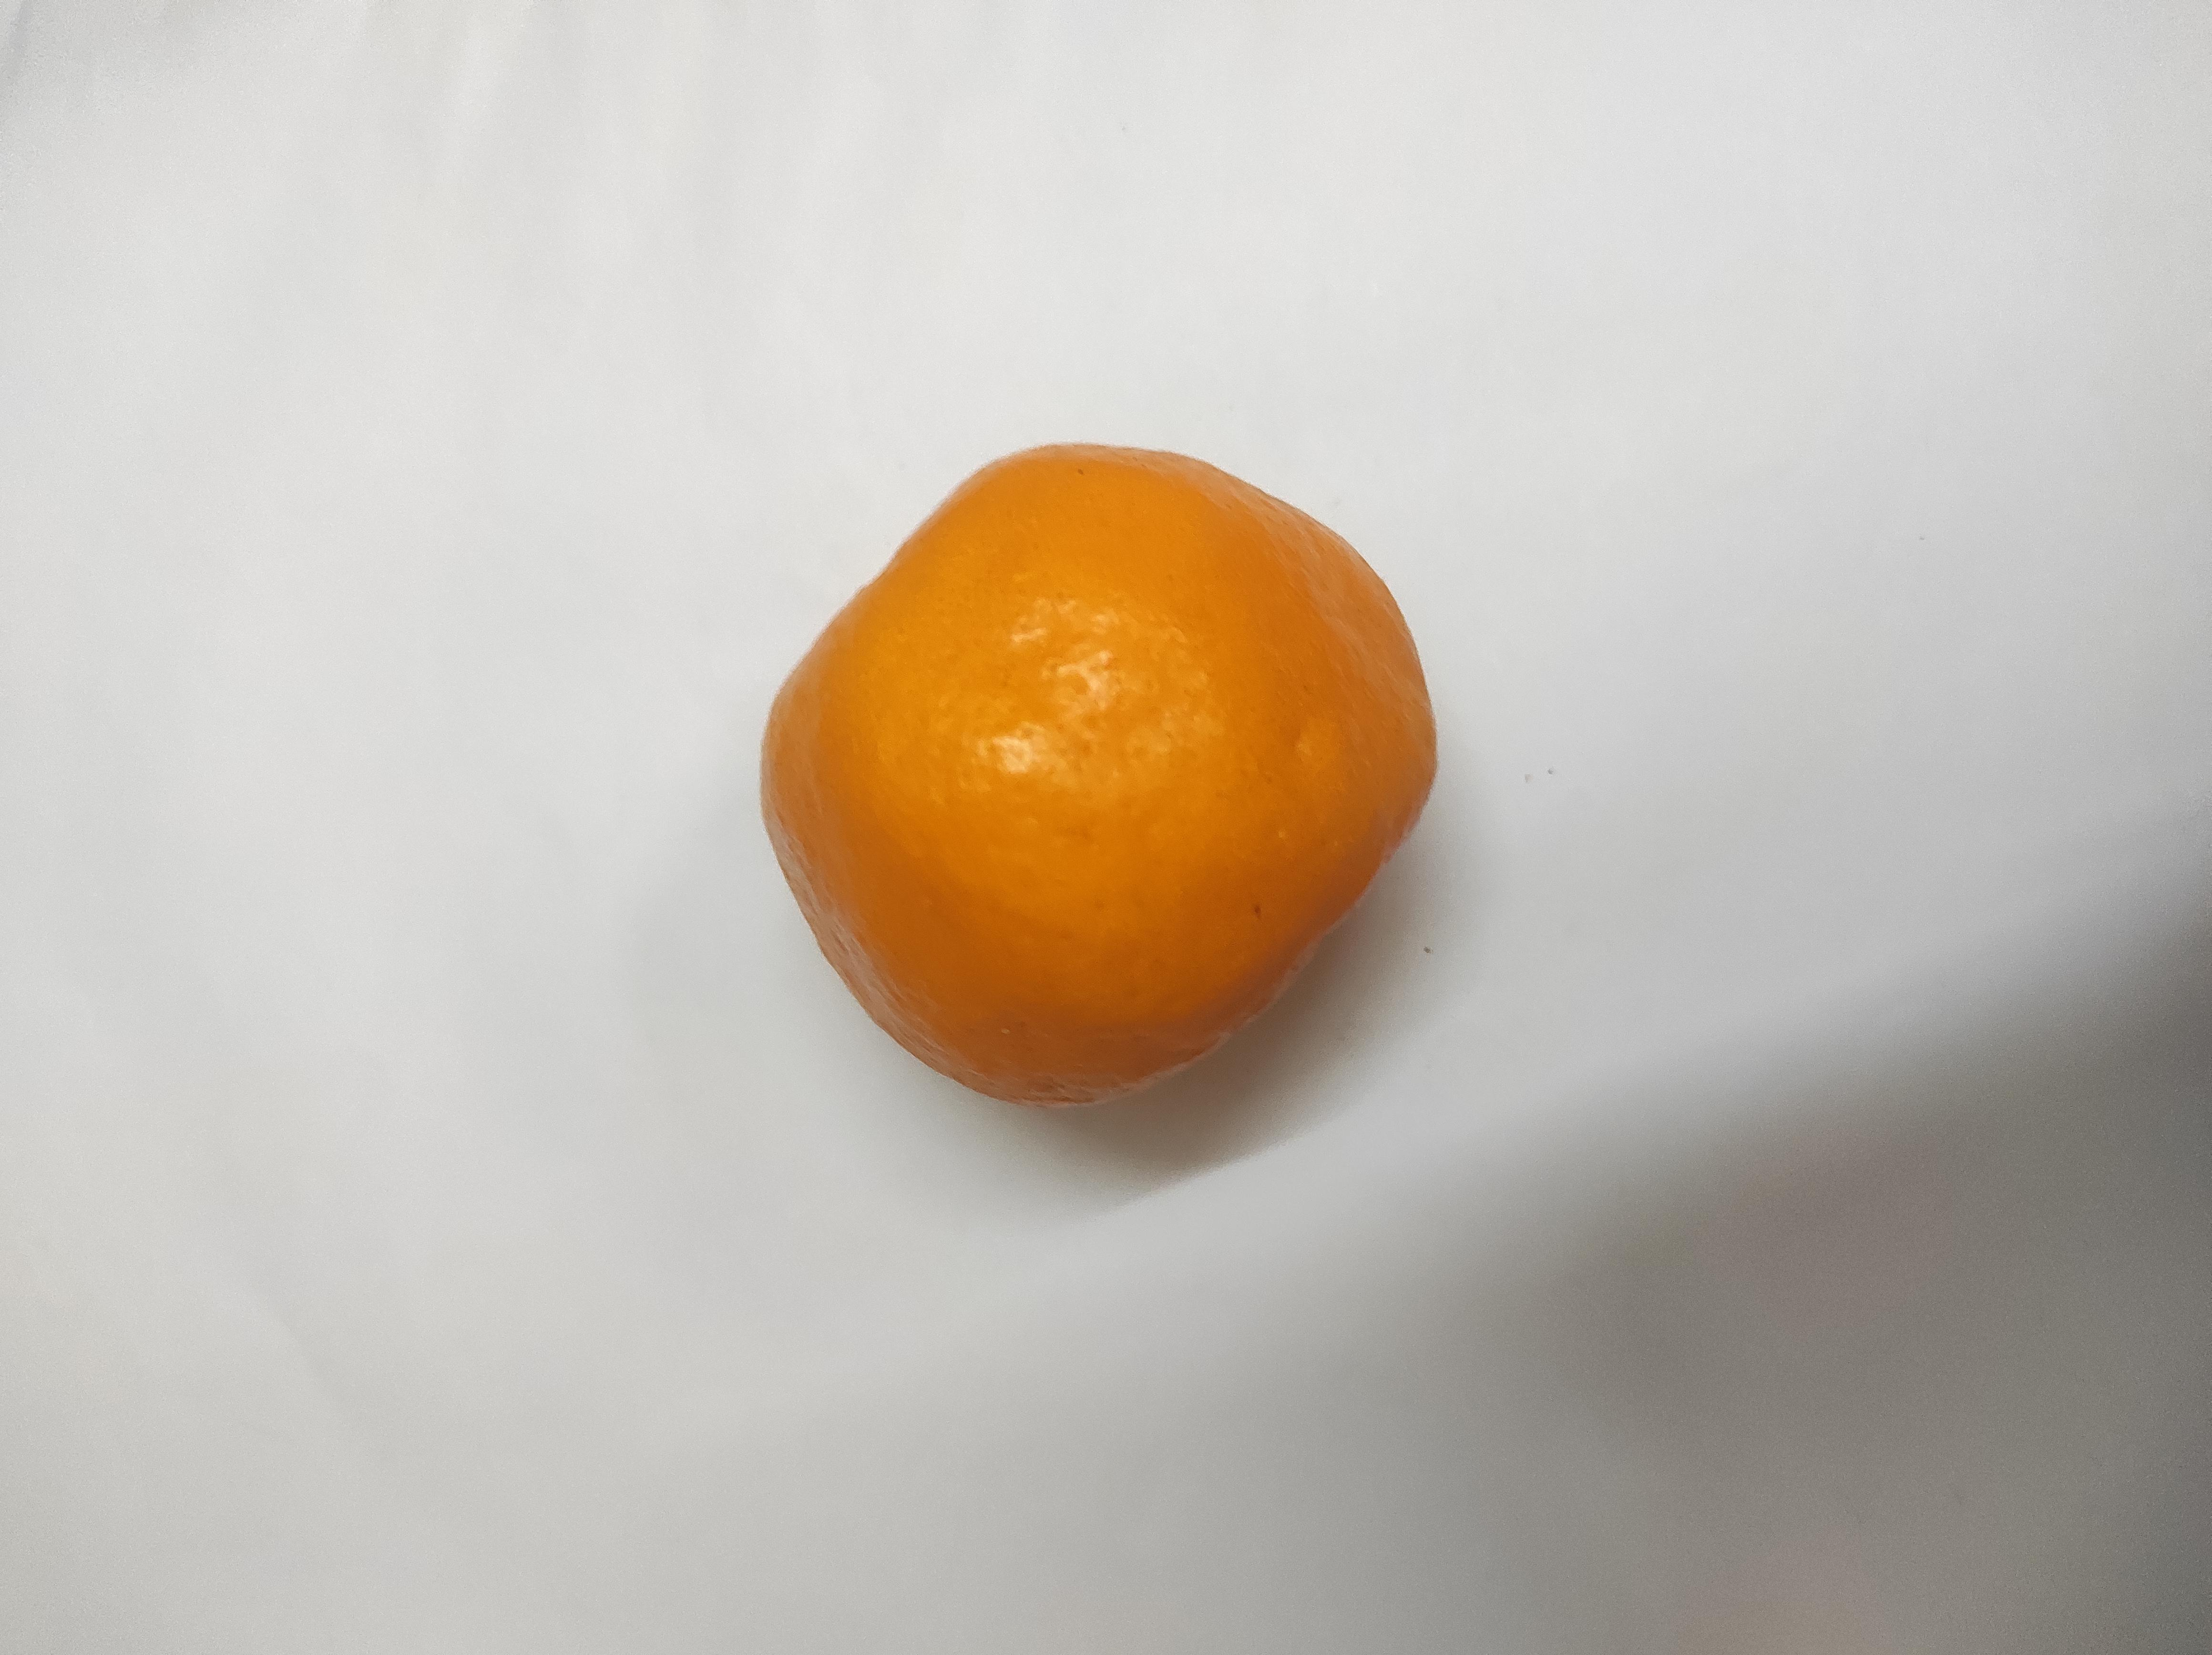Ripe: (763, 438, 1421, 1100)
